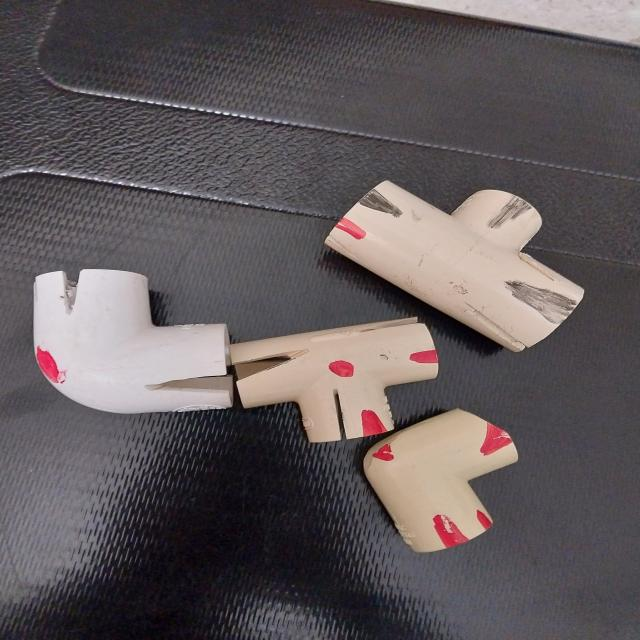Defective: (502, 283, 572, 322), (145, 373, 233, 394), (53, 270, 82, 320), (330, 380, 350, 441), (490, 192, 522, 226), (239, 356, 296, 374), (433, 513, 461, 545), (37, 351, 61, 386), (484, 425, 512, 453), (336, 220, 370, 243), (356, 194, 396, 213), (363, 411, 384, 436), (328, 362, 354, 378), (407, 352, 436, 366), (370, 447, 395, 462), (476, 511, 492, 529)
L Joint: (28, 270, 258, 410), (363, 411, 519, 554)
T Joint: (322, 184, 582, 362), (218, 312, 448, 440)
